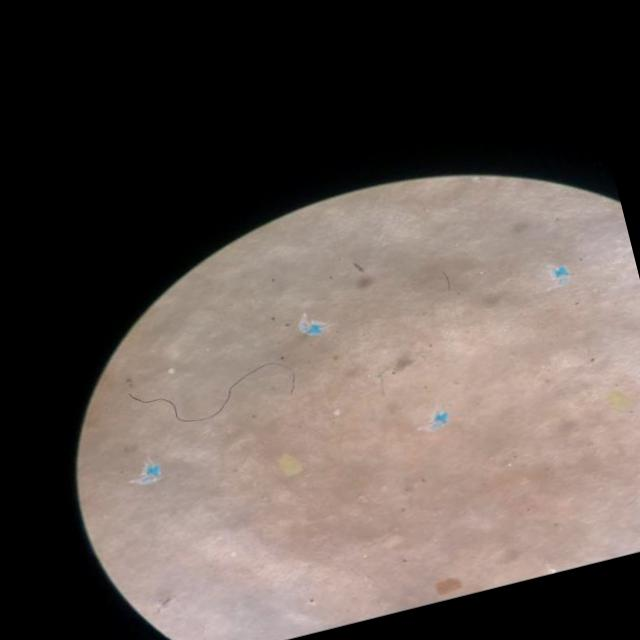fiber: (128, 356, 295, 423)
film: (131, 463, 158, 484), (298, 313, 321, 336), (546, 264, 568, 284), (417, 420, 447, 430)
fragment: (278, 454, 301, 474), (435, 578, 460, 595), (607, 390, 627, 409)
pellet: (333, 408, 340, 415), (168, 367, 173, 374), (230, 551, 236, 556)
